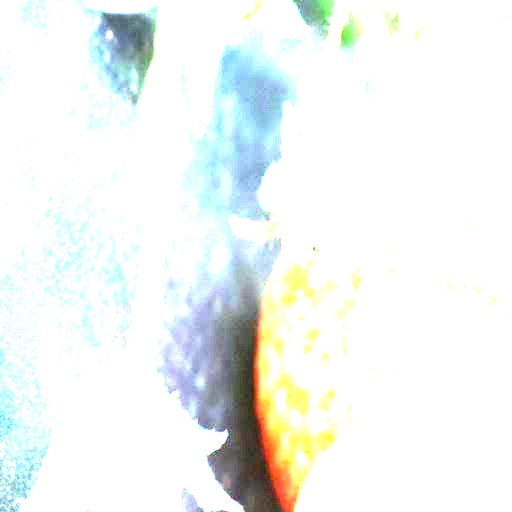Gray Mold: (230, 38, 460, 265)
